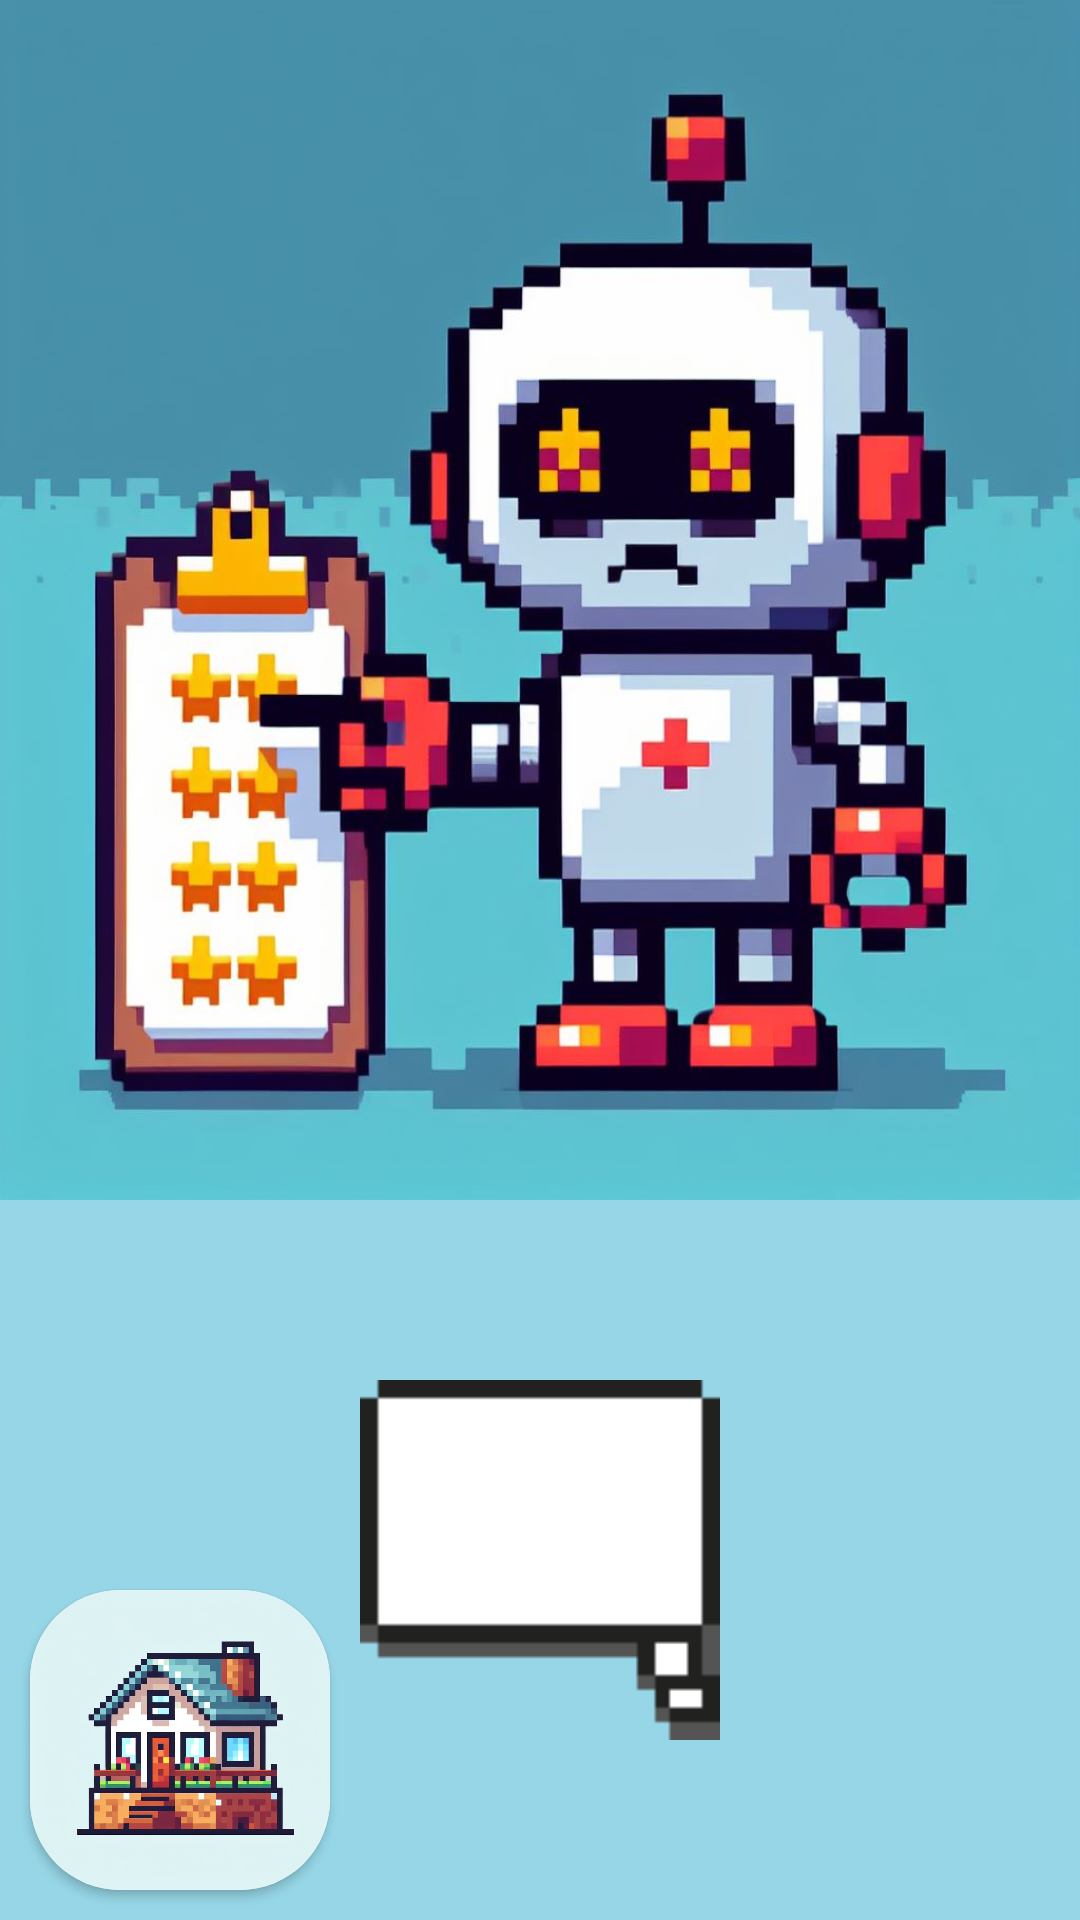

Screen size 1080w x 1920h. Icon name, then its box in pixels as (x1, y1, x2, y2):
bubble: (360, 1380, 720, 1740)
home: (30, 1590, 330, 1890)
